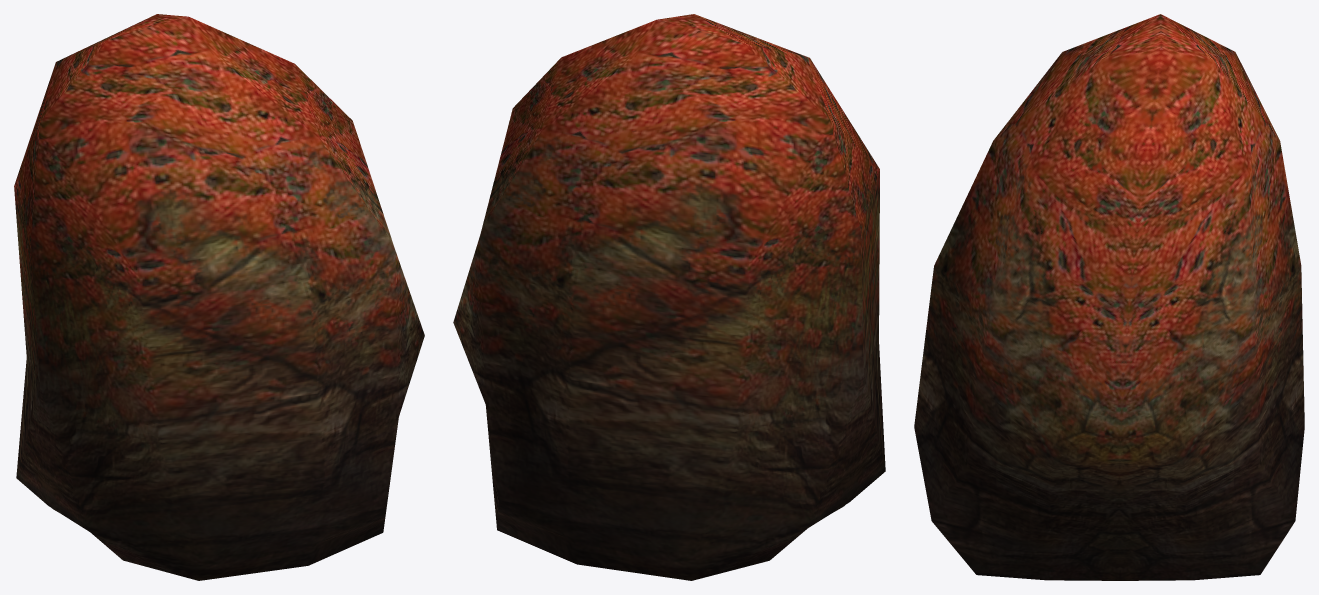
Rendered from leinabaobianyuan_shitou01.FBX.
3 renders of one model, left to right at view 1: azimuth 30°, elevation 25°; view 2: azimuth 150°, elevation 25°; view 3: azimuth 270°, elevation 25°, orthographic. The views are drawn at different scales.
Visible parts, largest first — view 1: leinabaobianyuan_shitou01; view 2: leinabaobianyuan_shitou01; view 3: leinabaobianyuan_shitou01.
Part boxes in pixels (bbox=[...]): leinabaobianyuan_shitou01: bbox=[14, 14, 424, 580]; leinabaobianyuan_shitou01: bbox=[453, 14, 885, 580]; leinabaobianyuan_shitou01: bbox=[914, 14, 1304, 580].
Bounding box in the file's own units: 213 × 261 × 195.
